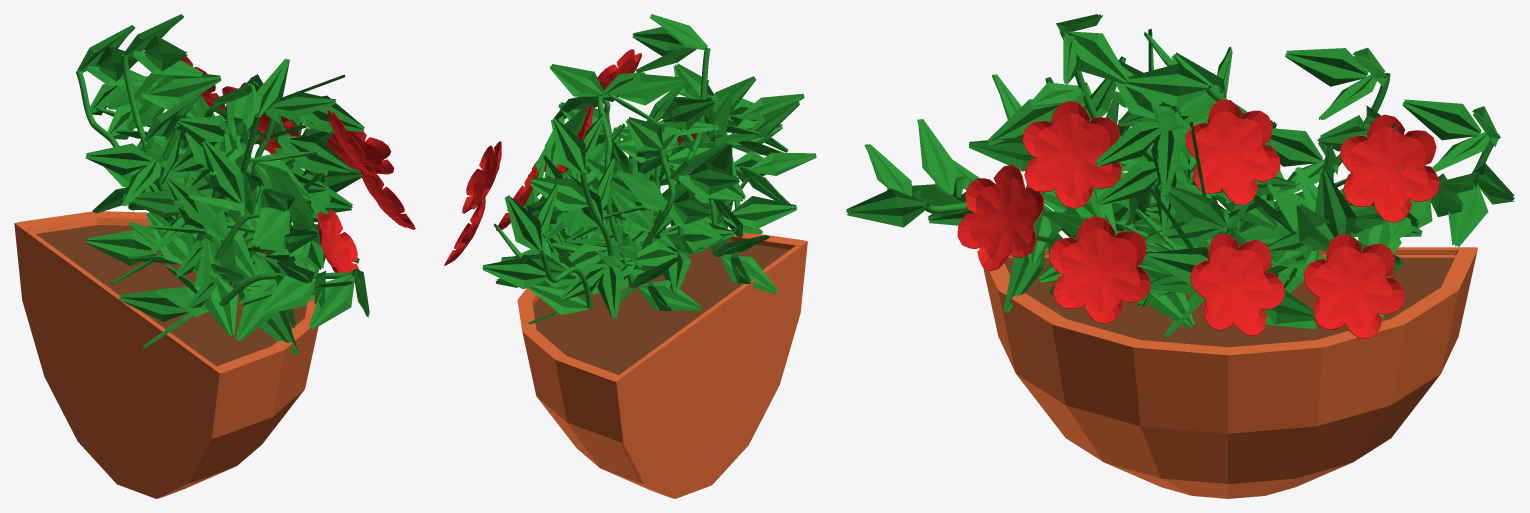
File: Flowers.glb
The picture shows the model from 3 angles, left to right: view 1: azimuth 30°, elevation 25°; view 2: azimuth 150°, elevation 25°; view 3: azimuth 270°, elevation 25°; orthographic projection. The views are drawn at different scales.
Visible parts, largest first — view 1: BézierCurve.020, FlowerPot, Flower, Flower.002, Flower.001, Flower.005, Flower.004; view 2: BézierCurve.020, FlowerPot, Flower.002, Flower.005, Flower.003, Flower.006; view 3: FlowerPot, BézierCurve.020, Flower.001, Flower.006, Flower.005, Flower.003, Flower.004, Flower.002, Flower.
Part boxes in pixels (x1,y1,x2,y2): BézierCurve.020: [76, 14, 369, 355]; FlowerPot: [14, 211, 318, 498]; Flower: [317, 210, 359, 282]; Flower.002: [326, 130, 393, 174]; Flower.001: [359, 168, 415, 229]; Flower.005: [327, 109, 377, 177]; Flower.004: [222, 82, 298, 141]; BézierCurve.020: [482, 14, 816, 324]; FlowerPot: [517, 230, 807, 498]; Flower.002: [462, 141, 501, 213]; Flower.005: [595, 49, 641, 106]; Flower.003: [444, 198, 485, 265]; Flower.006: [496, 166, 537, 230]; FlowerPot: [979, 247, 1477, 498]; BézierCurve.020: [846, 14, 1514, 338]; Flower.001: [1049, 216, 1150, 323]; Flower.006: [1340, 114, 1439, 222]; Flower.005: [1022, 100, 1121, 208]; Flower.003: [1303, 234, 1404, 338]; Flower.004: [1185, 99, 1280, 205]; Flower.002: [1190, 234, 1284, 335]; Flower: [957, 165, 1043, 270].
Bounding box in the file's own units: 1.68 × 2.34 × 2.69.
